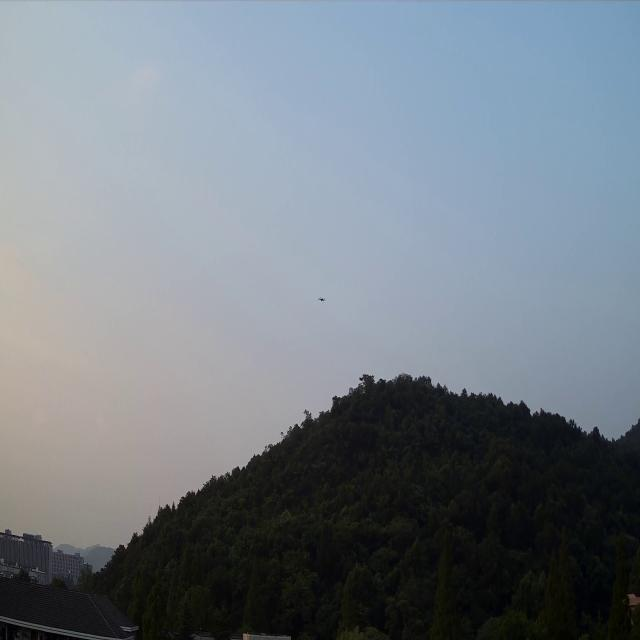UAV: (318, 295, 326, 303)
